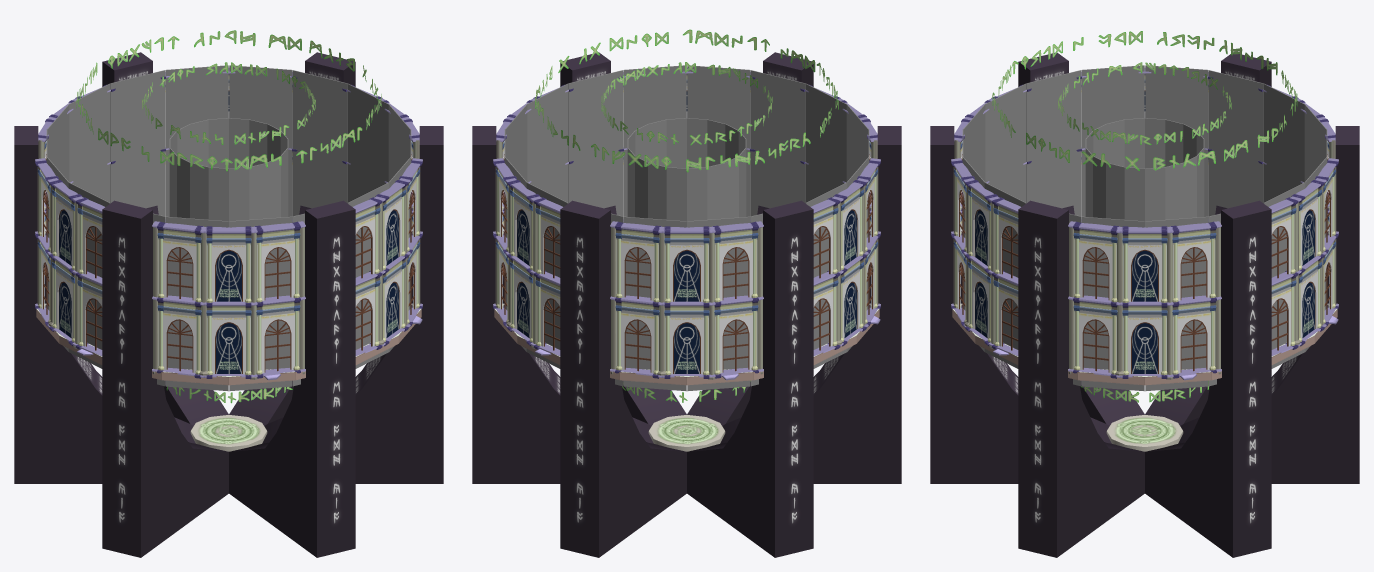
File: stage03.FBX
3 renders of one model, left to right at view 1: azimuth 30°, elevation 25°; view 2: azimuth 150°, elevation 25°; view 3: azimuth 270°, elevation 25°, orthographic.
Visible parts, largest first — view 1: Box001, Wall, Window, Cylinder003, Middle, Ground; view 2: Box001, Wall, Window, Cylinder003, Middle, Ground; view 3: Box001, Wall, Window, Cylinder003, Middle, Ground.
Part boxes in pixels (x1,y1,x2,y2): Box001: (14,52,443,557); Wall: (46,65,411,391); Window: (35,68,422,380); Cylinder003: (76,30,381,403); Middle: (190,415,267,451); Ground: (36,303,421,385); Box001: (472,52,901,557); Wall: (504,65,869,391); Window: (493,68,880,380); Cylinder003: (535,29,838,402); Middle: (648,415,725,451); Ground: (494,303,879,385); Box001: (930,52,1359,557); Wall: (962,65,1327,391); Window: (951,68,1338,380); Cylinder003: (992,31,1297,402); Middle: (1106,415,1183,451); Ground: (952,303,1337,385).
Size of the model in its own units: 2056 by 2268 by 2228.
5 materials, 4 textured.
